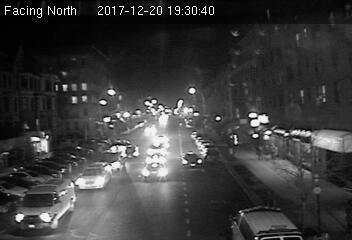car: (75, 162, 111, 190), (143, 161, 170, 182), (101, 151, 126, 169), (181, 152, 203, 169), (146, 144, 167, 156)
police: (224, 204, 303, 240)
truck: (9, 179, 78, 231)
